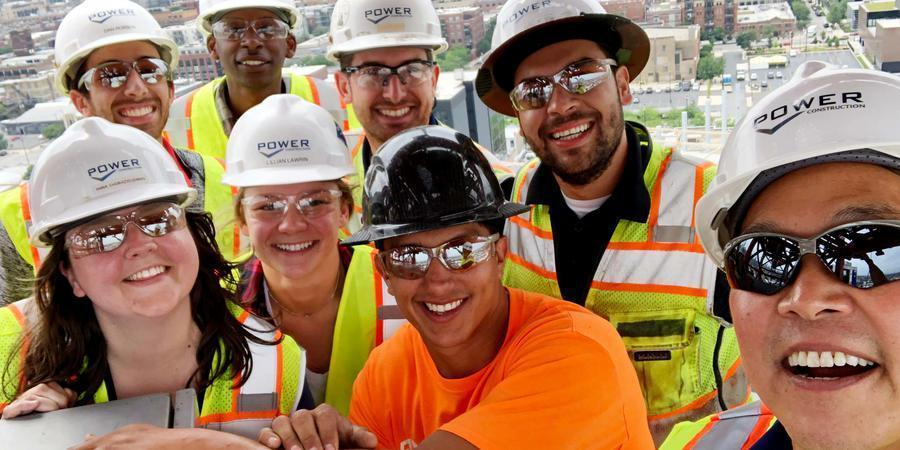helmet: (694, 60, 899, 270), (339, 123, 531, 245), (31, 117, 198, 249), (475, 0, 651, 114), (218, 93, 360, 187), (54, 0, 183, 95), (324, 0, 449, 59)
